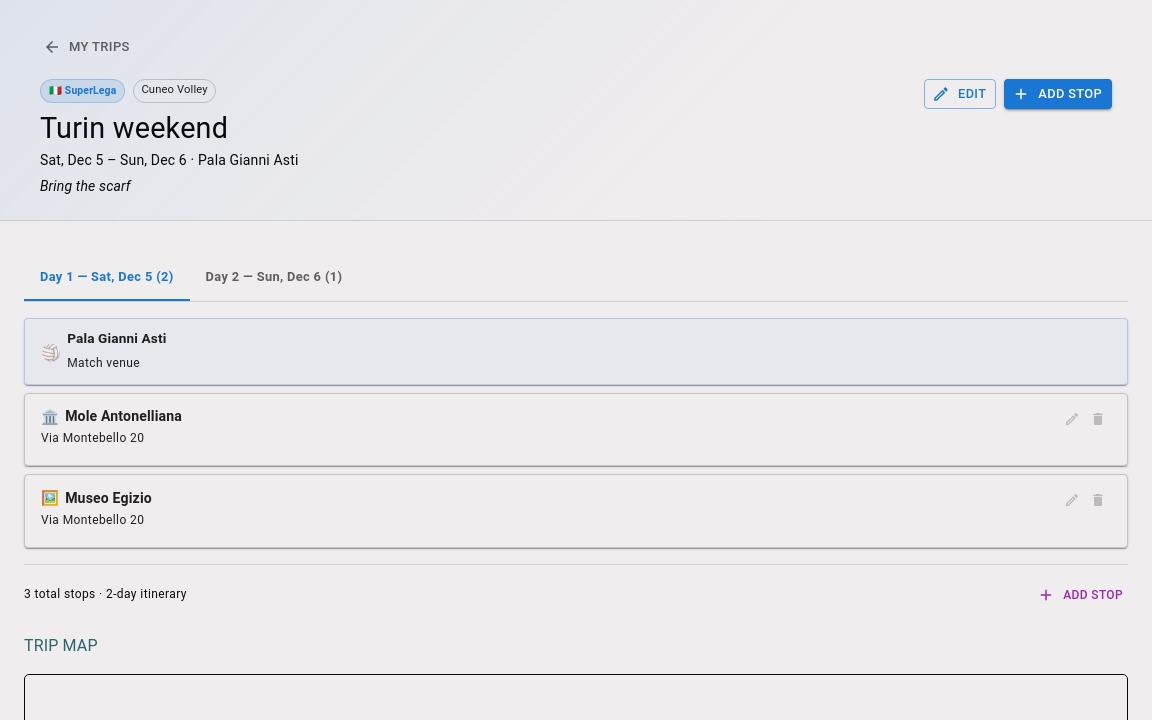
Test: ItineraryDetailPage › opens the add-stop dialog
Expected: the heading "Turin weekend" is shown, [40,111,228,145]
Click the button "Add stop" in the row of "Cuneo Volley" at (1058, 94), box [1004,79,1112,109]
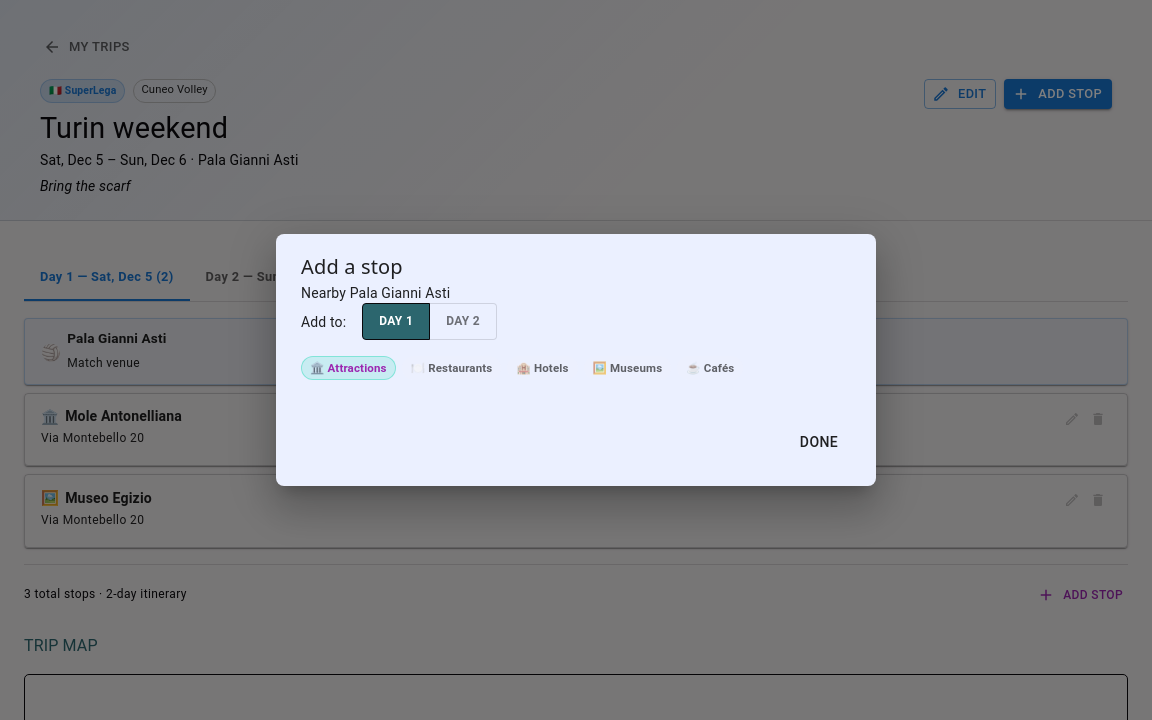
Result: the text "Nearby Pala Gianni Asti" is shown at [301,285,450,301]
